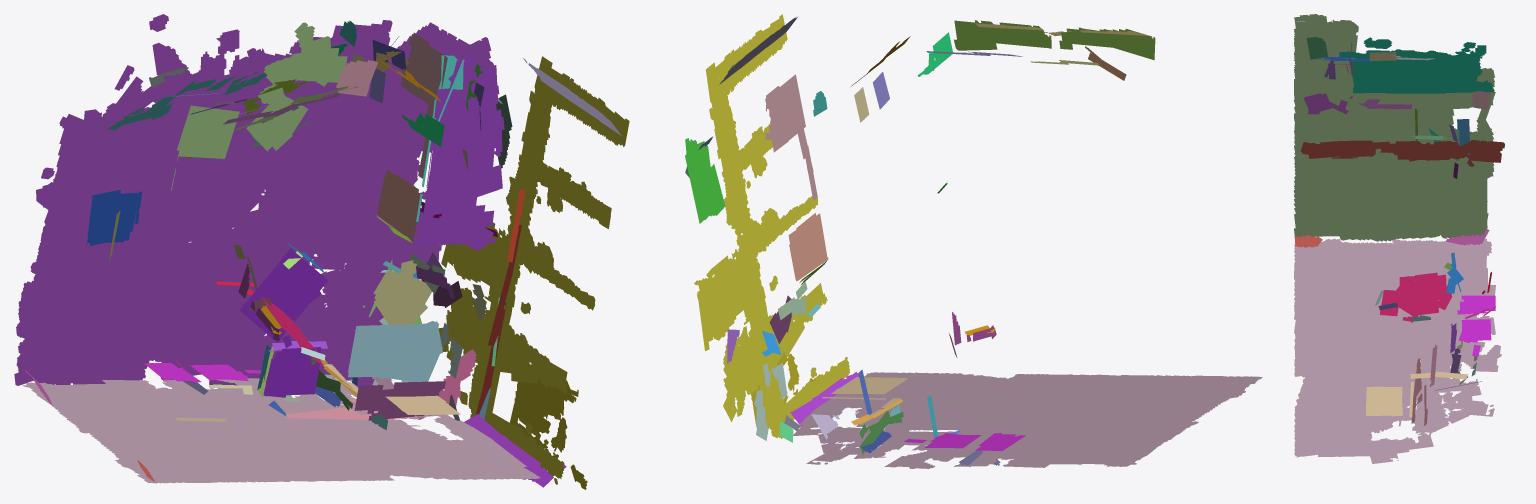
File: 8a20d62ac0_simple.glb
3 views of the same model, side by side, from view 1: azimuth 30°, elevation 25°; view 2: azimuth 150°, elevation 25°; view 3: azimuth 270°, elevation 25° (orthographic). The views are drawn at different scales.
Bounding box in the file's own units: 4.42 × 3.95 × 2.38.
